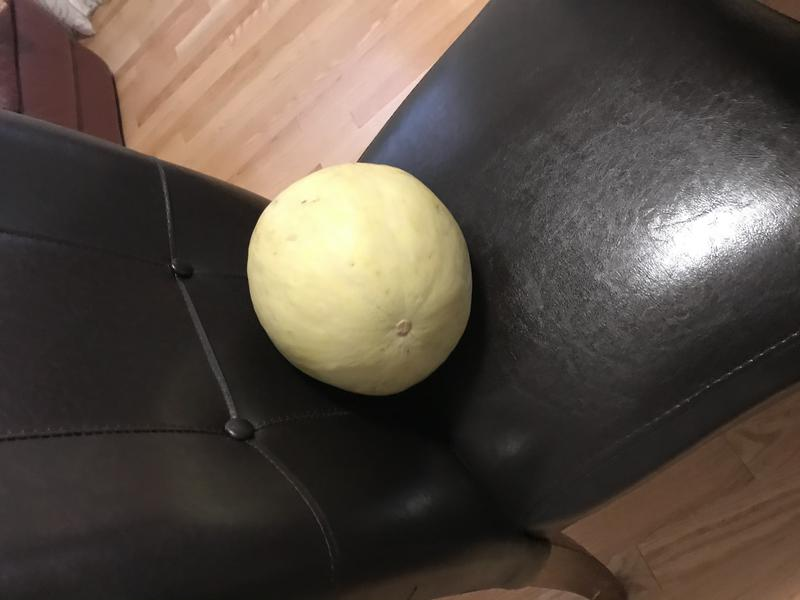honeydew: (235, 149, 480, 407)
